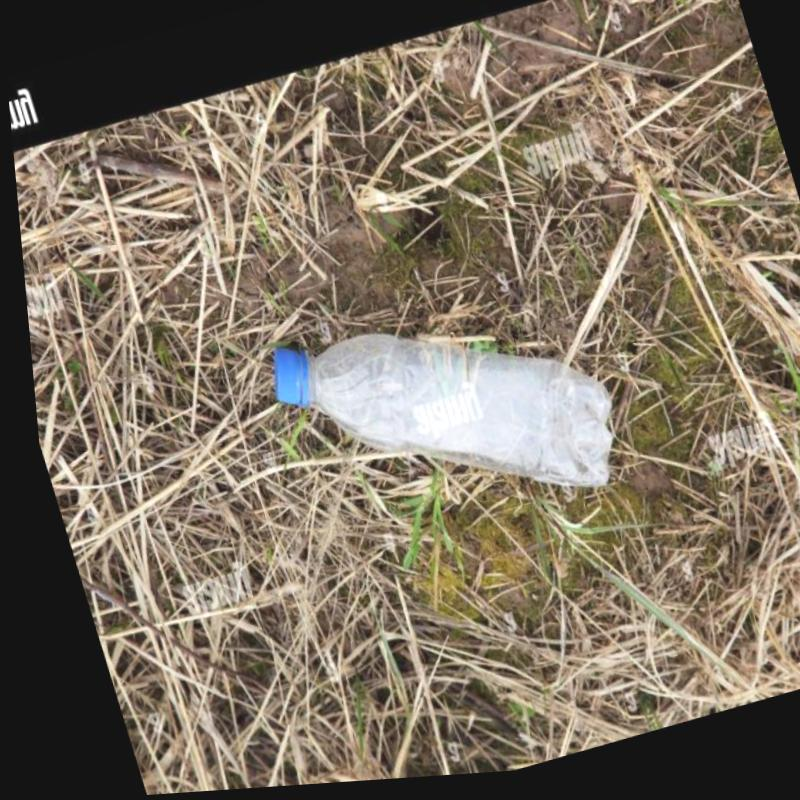botella: (244, 263, 631, 575)
